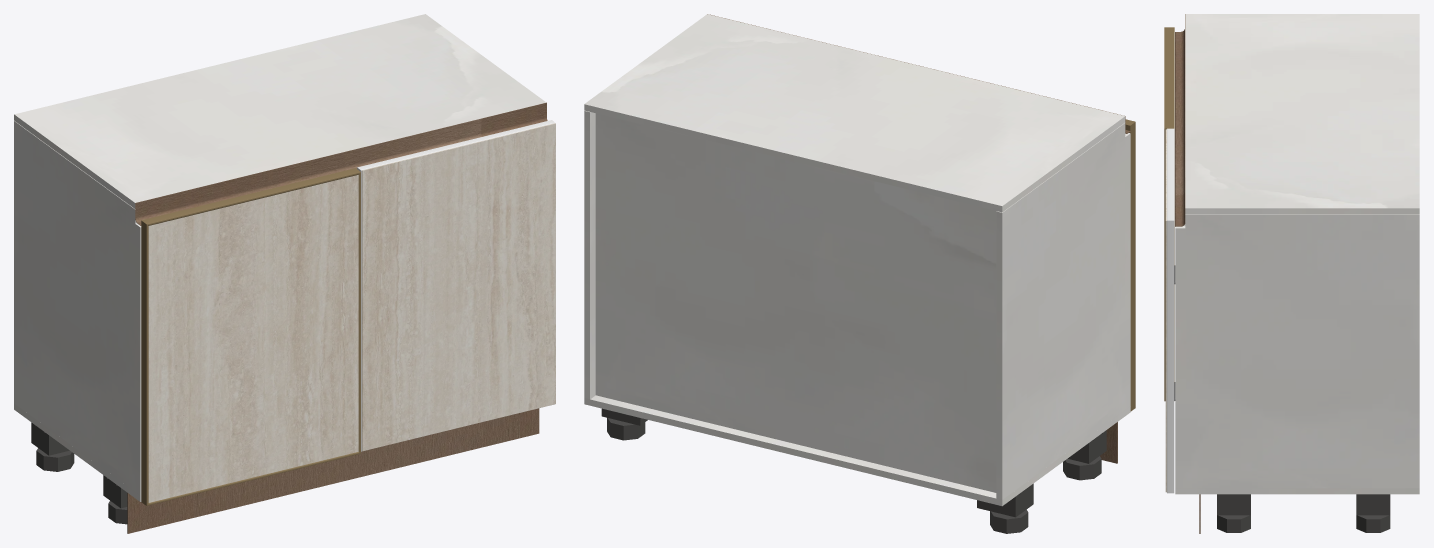
The model's file is BB-AC-CJ-ST-LMC-RHS-XXX-1050-720-560-15.glb.
The picture shows the model from 3 angles, left to right: view 1: azimuth 30°, elevation 25°; view 2: azimuth 150°, elevation 25°; view 3: azimuth 270°, elevation 25°; orthographic projection. The views are drawn at different scales.
Parts seen in each view (by area): view 1: Object_node_18, TP_node_2, TP_node_1, TP_node, Object_node_20, ExtrSplGeo, Extrusion_node_1, Extrusion, ALU PROF FOR SHUTTER 851P IMP_node_1, TP, Extrusion_node, Foot (+1 smaller); view 2: TP_node_3, TP_node_1, TP_node, TP, TP_node_0, Extrusion_node_1, Plate, Foot, Foot_node_0, Foot_node; view 3: TP_node_0, TP_node_1, ALU PROF FOR SHUTTER 851P IMP, ExtrSplGeo, TP, Extrusion, Extrusion_node, Plate_node, ALU PROF FOR SHUTTER 851P IMP_node_1, Plate_node_1, TP_node_2, Foot_node (+1 smaller).
Part boxes in pixels (bbox=[...]): Object_node_18: bbox=[148, 175, 358, 502]; TP_node_2: bbox=[361, 123, 555, 451]; TP_node_1: bbox=[14, 14, 546, 208]; TP_node: bbox=[14, 121, 141, 495]; Object_node_20: bbox=[127, 408, 539, 533]; ExtrSplGeo: bbox=[135, 102, 547, 225]; Extrusion_node_1: bbox=[141, 220, 148, 505]; Extrusion: bbox=[141, 168, 360, 225]; ALU PROF FOR SHUTTER 851P IMP_node_1: bbox=[357, 120, 555, 170]; TP: bbox=[14, 403, 141, 501]; Extrusion_node: bbox=[358, 172, 360, 453]; Foot: bbox=[36, 448, 74, 471]; TP_node_3: bbox=[595, 113, 996, 492]; TP_node_1: bbox=[584, 14, 1125, 212]; TP_node: bbox=[996, 123, 1130, 499]; TP: bbox=[584, 395, 1130, 506]; TP_node_0: bbox=[584, 110, 595, 399]; Extrusion_node_1: bbox=[1125, 122, 1135, 411]; Plate: bbox=[977, 484, 1033, 517]; Foot: bbox=[990, 509, 1028, 533]; Foot_node_0: bbox=[1063, 456, 1101, 480]; Foot_node: bbox=[607, 418, 645, 440]; TP_node_0: bbox=[1175, 214, 1419, 488]; TP_node_1: bbox=[1185, 14, 1419, 214]; ALU PROF FOR SHUTTER 851P IMP: bbox=[1167, 220, 1174, 493]; ExtrSplGeo: bbox=[1175, 14, 1185, 226]; TP: bbox=[1175, 488, 1419, 494]; Extrusion: bbox=[1164, 27, 1174, 128]; Extrusion_node: bbox=[1164, 128, 1174, 401]; Plate_node: bbox=[1356, 494, 1390, 515]; ALU PROF FOR SHUTTER 851P IMP_node_1: bbox=[1167, 128, 1174, 220]; Plate_node_1: bbox=[1217, 494, 1250, 515]; TP_node_2: bbox=[1165, 129, 1166, 492]; Foot_node: bbox=[1356, 515, 1390, 532].
Size of what is drawn, in the model's own units: 1.05 by 0.82 by 0.5834.
16 materials, 3 textured.
